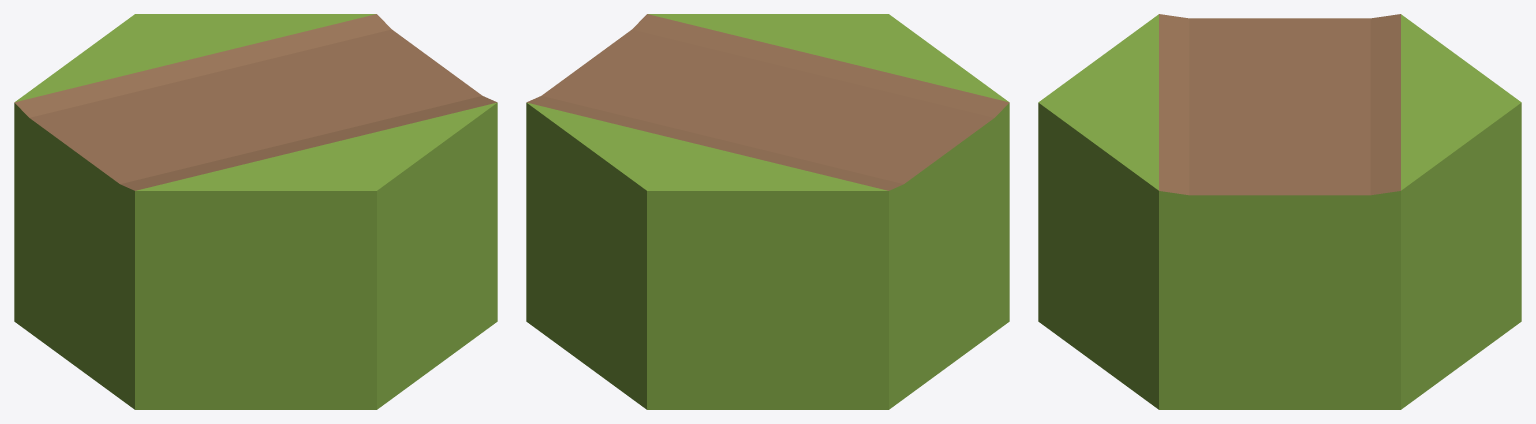
File: road1.fbx
3 views of the same model, side by side, from view 1: azimuth 30°, elevation 25°; view 2: azimuth 150°, elevation 25°; view 3: azimuth 270°, elevation 25° (orthographic).
Visible parts, largest first — view 1: Cylinder; view 2: Cylinder; view 3: Cylinder.
Boxes of the visible parts, x1,y1,x2,y2 form: Cylinder: (14, 14, 497, 409); Cylinder: (526, 14, 1009, 409); Cylinder: (1038, 14, 1521, 409).
Size of the model in its own units: 1.73 by 1 by 2.
